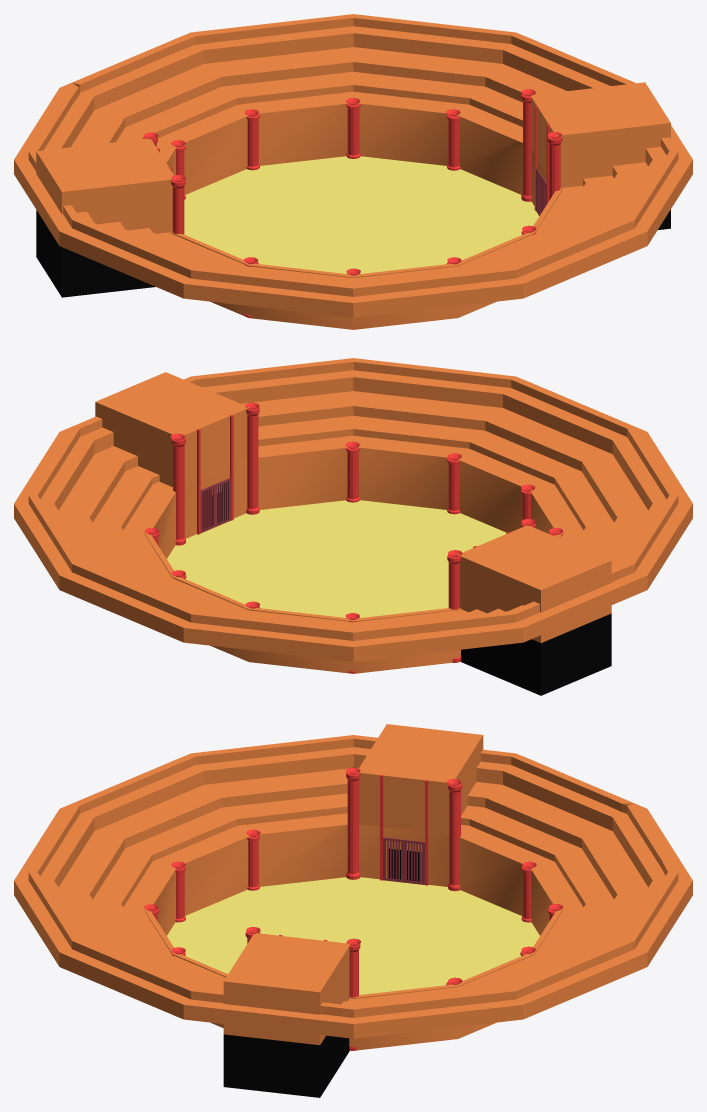
File: arena.glb
The picture shows the model from 3 angles, top to bottom: view 1: azimuth 30°, elevation 25°; view 2: azimuth 150°, elevation 25°; view 3: azimuth 270°, elevation 25°; orthographic projection.
Visible parts, largest first — view 1: stands, area, rail, entrance, entrance.001, column.006, column.004, column, column.007, column.005, column.003; view 2: stands, area, entrance, rail, entrance.001, gate, column.007, column.006, column.001, column.008, column.009; view 3: stands, area, rail, entrance.001, entrance, gate.001, column, column.001, column.011, column.006.
Boxes of the visible parts, bbox=[...] form: stands: bbox=[14, 26, 692, 317]; area: bbox=[163, 101, 562, 329]; rail: bbox=[28, 14, 678, 296]; entrance: bbox=[36, 138, 176, 297]; entrance.001: bbox=[531, 82, 670, 229]; column.006: bbox=[521, 94, 535, 201]; column.004: bbox=[346, 103, 360, 158]; column: bbox=[171, 179, 185, 234]; column.007: bbox=[547, 136, 562, 200]; column.005: bbox=[447, 114, 460, 170]; column.003: bbox=[246, 114, 259, 170]; stands: bbox=[14, 370, 692, 661]; area: bbox=[144, 445, 562, 673]; entrance: bbox=[457, 525, 611, 695]; rail: bbox=[28, 358, 678, 640]; entrance.001: bbox=[95, 372, 249, 525]; gate: bbox=[200, 478, 230, 532]; column.007: bbox=[246, 407, 259, 514]; column.006: bbox=[171, 437, 185, 545]; column.001: bbox=[447, 554, 461, 662]; column.008: bbox=[346, 447, 359, 502]; column.009: bbox=[447, 458, 460, 514]; stands: bbox=[14, 747, 692, 1038]; area: bbox=[144, 822, 562, 1050]; rail: bbox=[28, 735, 678, 1017]; entrance.001: bbox=[223, 933, 350, 1097]; entrance: bbox=[356, 724, 483, 881]; gate.001: bbox=[383, 837, 424, 884]; column: bbox=[346, 772, 360, 879]; column.001: bbox=[448, 783, 462, 891]; column.011: bbox=[247, 835, 259, 890]; column.006: bbox=[346, 942, 360, 1050].
Bounding box in the file's own units: 58.44 × 10.22 × 58.44.
Materials: 1 (1 with a texture image).
